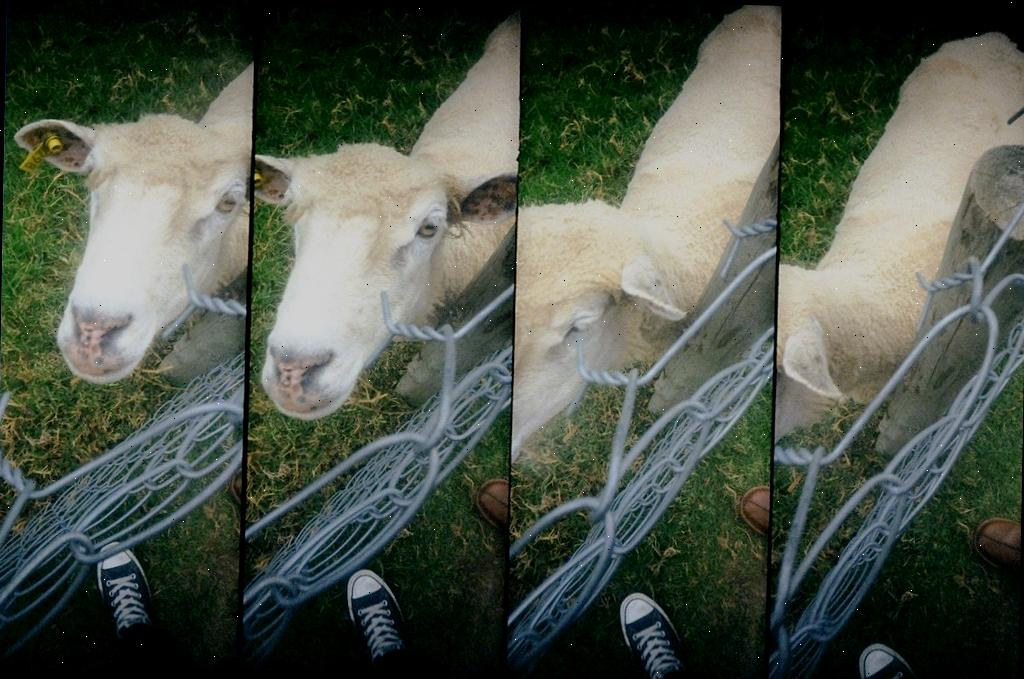Sheep: (506, 0, 774, 456), (246, 9, 525, 429), (770, 28, 1024, 452), (9, 56, 256, 387)
